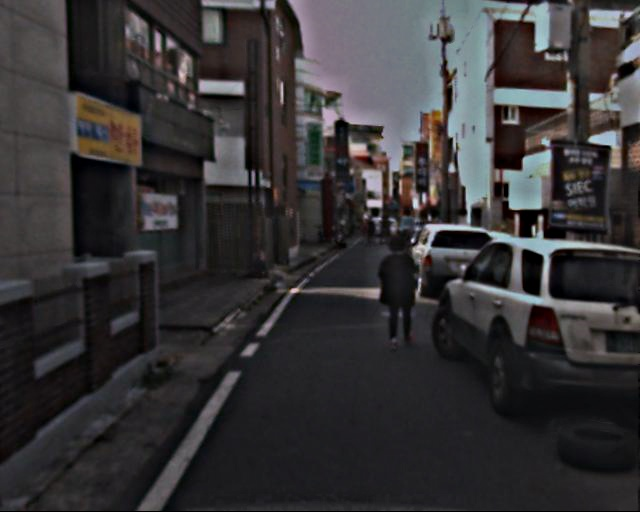person: (376, 236, 422, 347), (366, 214, 394, 247)
